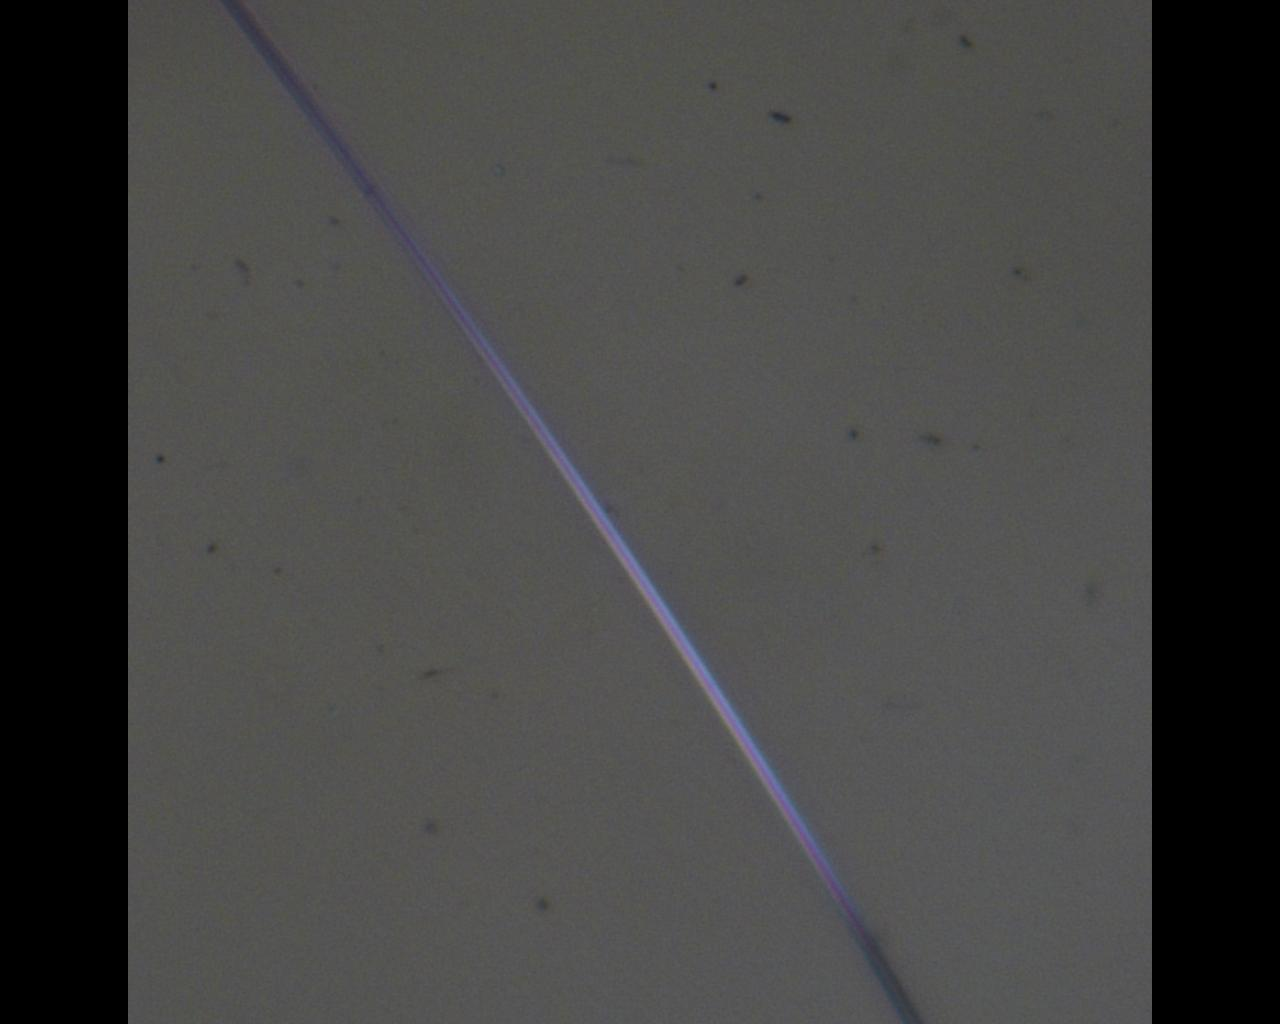fiber: (601, 460, 995, 873), (0, 60, 601, 180), (0, 901, 601, 956)
